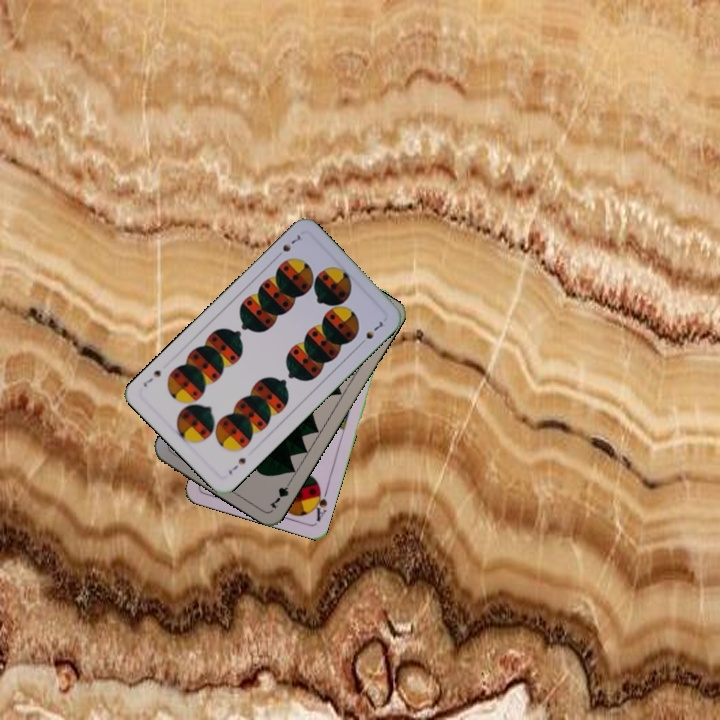G7: (265, 475, 295, 511)
S7: (271, 231, 306, 261), (224, 454, 248, 477)
SA: (308, 482, 331, 524)
